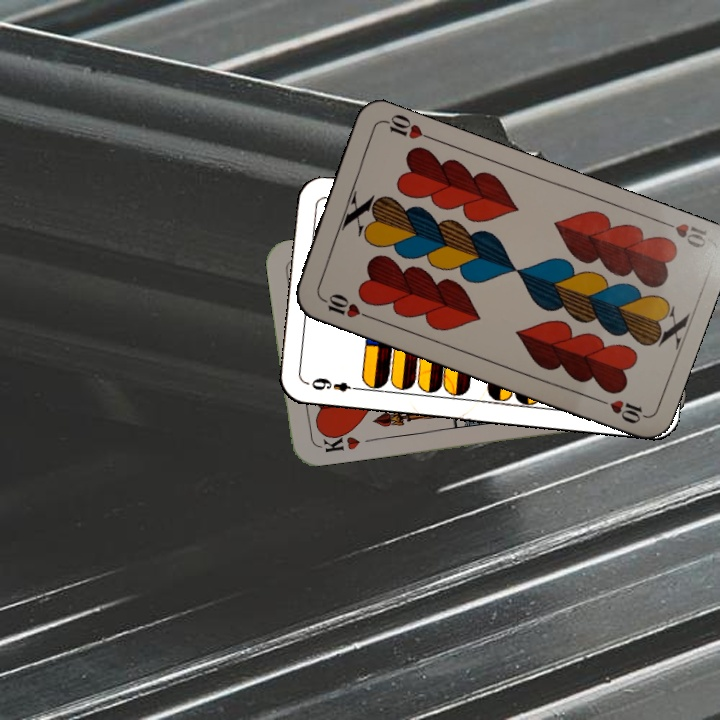E9: (307, 373, 364, 395)
H10: (654, 214, 712, 251), (316, 289, 373, 321)
HK: (314, 426, 363, 455)
